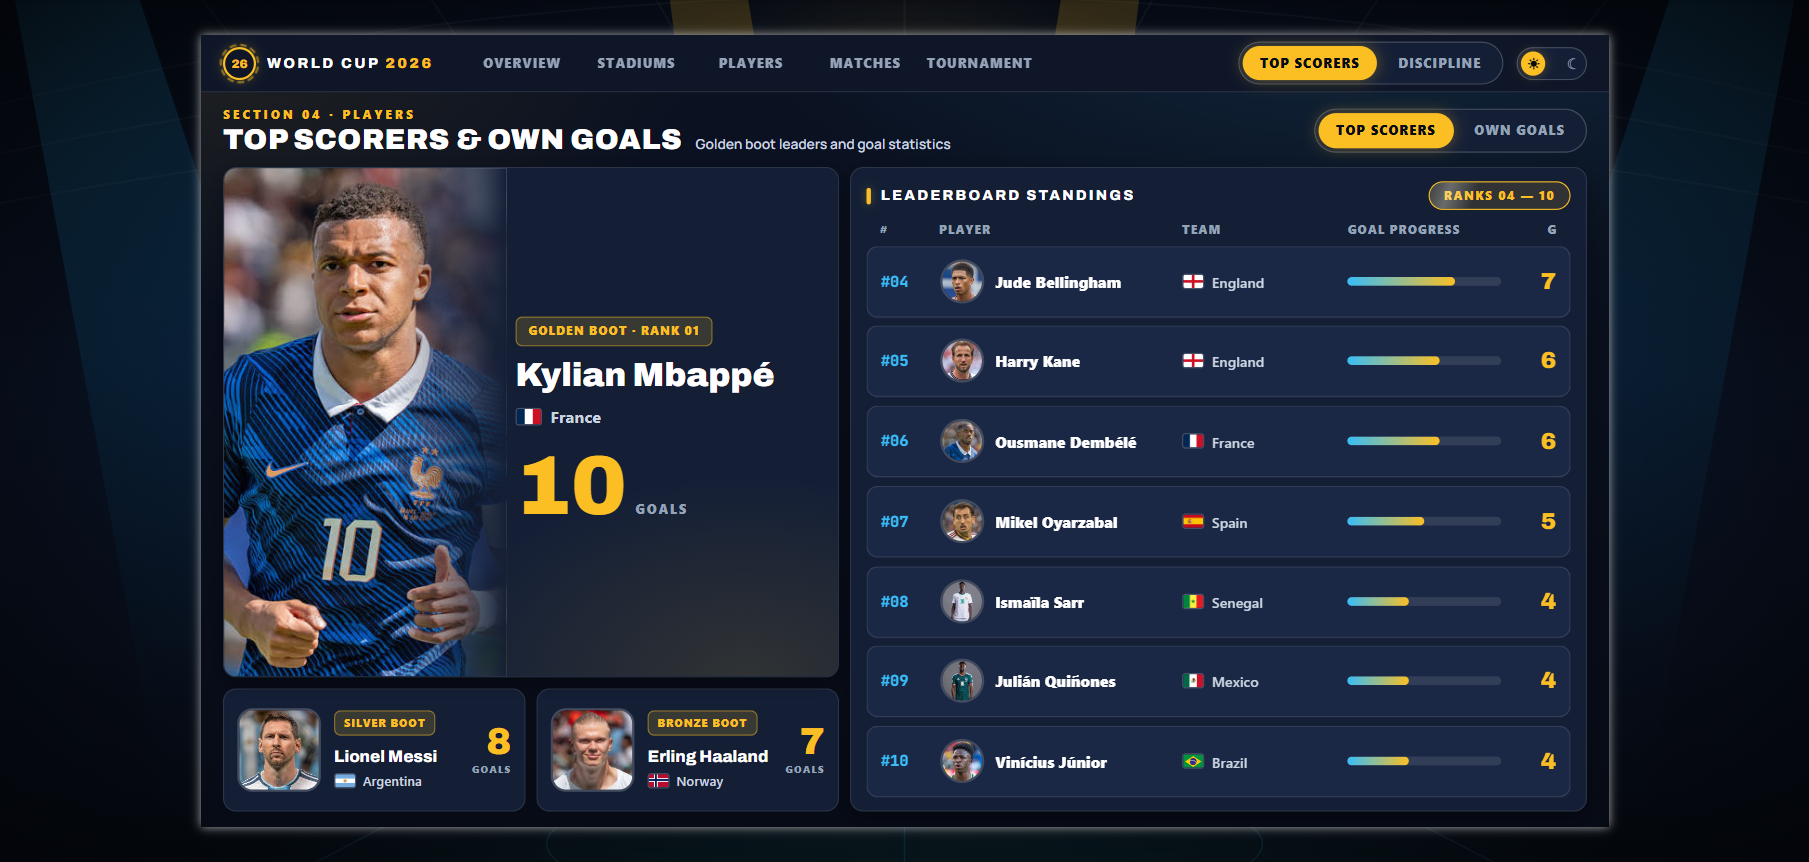

The dashboard page shown, as its layout file describes it:
{"tool":"powerbi","page":{"name":"Players Page","canvas":[1280,720],"ordinal":3},"visuals":[{"type":"htmlContent443BE3AD55E043BF878BED274D3A6855","fields":{"content":["HTML Visuals.Players_Page"]},"box":[0,0,1280,720],"z":0},{"type":"actionButton","title":"Tournament","box":[656,0,104,51],"z":1},{"type":"actionButton","title":"Matches","box":[552,0,104,51],"z":2},{"type":"actionButton","title":"Stadiums","box":[344,0,104,51],"z":4},{"type":"actionButton","title":"Overview","box":[240,0,104,51],"z":5}]}

Visuals, with their boxes on the page's 1280x720 design canvas (x1, y1, x2, y2). These are canvas units, not pixel positions in the 1809x862 screenshot, which may show the page scaled, cropped or inside an application window:
htmlContent443BE3AD55E043BF878BED274D3A6855 - HTML Visuals.Players_Page: bbox=(0, 0, 1280, 720)
"Tournament" actionButton: bbox=(656, 0, 760, 51)
"Matches" actionButton: bbox=(552, 0, 656, 51)
"Stadiums" actionButton: bbox=(344, 0, 448, 51)
"Overview" actionButton: bbox=(240, 0, 344, 51)
